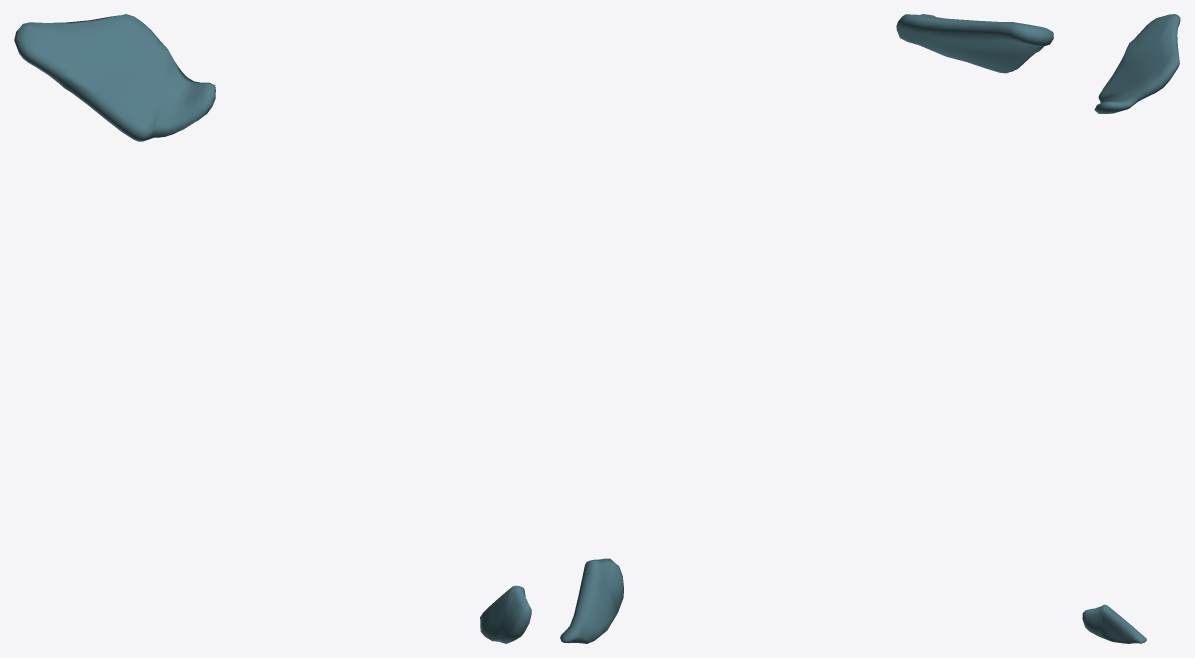
The model's file is Splenius_colli_on_transverse_process_of_atlas.r_Generated_Mesh_.glb.
The picture shows the model from 3 angles, left to right: view 1: azimuth 30°, elevation 25°; view 2: azimuth 150°, elevation 25°; view 3: azimuth 270°, elevation 25°; orthographic projection. The views are drawn at different scales.
Visible parts, largest first — view 1: Splenius_colli_on_transverse_process_of_atlas.r_Generated_Me; view 2: Splenius_colli_on_transverse_process_of_atlas.r_Generated_Me; view 3: Splenius_colli_on_transverse_process_of_atlas.r_Generated_Me.
Boxes of the visible parts, x1,y1,x2,y2 form: Splenius_colli_on_transverse_process_of_atlas.r_Generated_Me: [14, 14, 531, 643]; Splenius_colli_on_transverse_process_of_atlas.r_Generated_Me: [560, 14, 1053, 643]; Splenius_colli_on_transverse_process_of_atlas.r_Generated_Me: [1082, 14, 1180, 643].
Size of the model in its own units: 0.0145 by 0.0206 by 0.0038.
